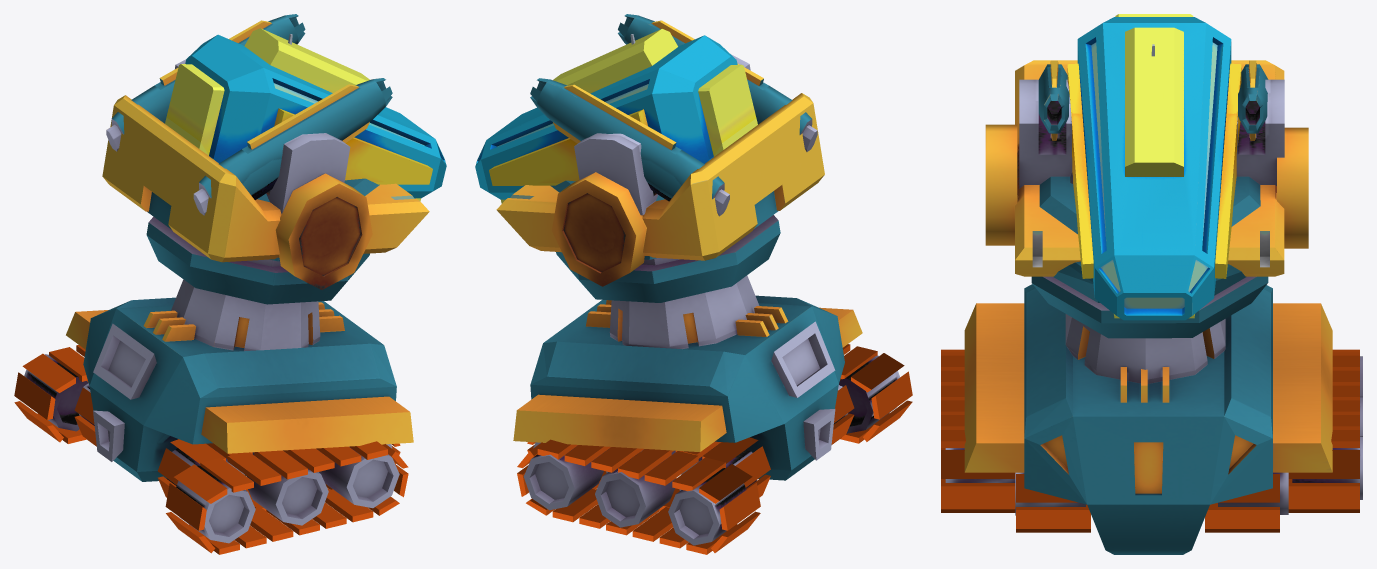
Rendered from Player_move_2_Upgrade1.obj.
3 renders of one model, left to right at view 1: azimuth 30°, elevation 25°; view 2: azimuth 150°, elevation 25°; view 3: azimuth 270°, elevation 25°, orthographic. The views are drawn at different scales.
Parts seen in each view (by area): view 1: Object015, Box020, Object014, Box018, Box019, Box017, Box016; view 2: Object015, Box019, Box018, Object014, Box020, Box016, Box017; view 3: Object015, Box019, Box020, Object014, Box017, Box016, Box009, Box018.
Part boxes in pixels (x1,y1,x2,y2): Object015: (66, 28, 446, 481); Box020: (165, 441, 408, 554); Object014: (106, 14, 392, 215); Box018: (24, 354, 399, 543); Box019: (14, 345, 87, 443); Box017: (158, 439, 400, 512); Box016: (74, 381, 96, 446); Object015: (475, 29, 862, 480); Box019: (517, 439, 760, 554); Box018: (523, 355, 899, 545); Object014: (530, 14, 817, 216); Box020: (840, 344, 912, 443); Box016: (527, 437, 770, 510); Box017: (831, 378, 854, 444); Object015: (964, 14, 1332, 554); Box019: (1288, 349, 1359, 512); Box020: (941, 349, 1015, 512); Object014: (1038, 60, 1268, 140); Box017: (1016, 474, 1090, 532); Box016: (1205, 474, 1279, 532); Box009: (1015, 472, 1288, 515); Box018: (945, 356, 1362, 499).
Bounding box in the file's own units: 70.38 × 88.9 × 68.55.
6 materials, 4 textured.
